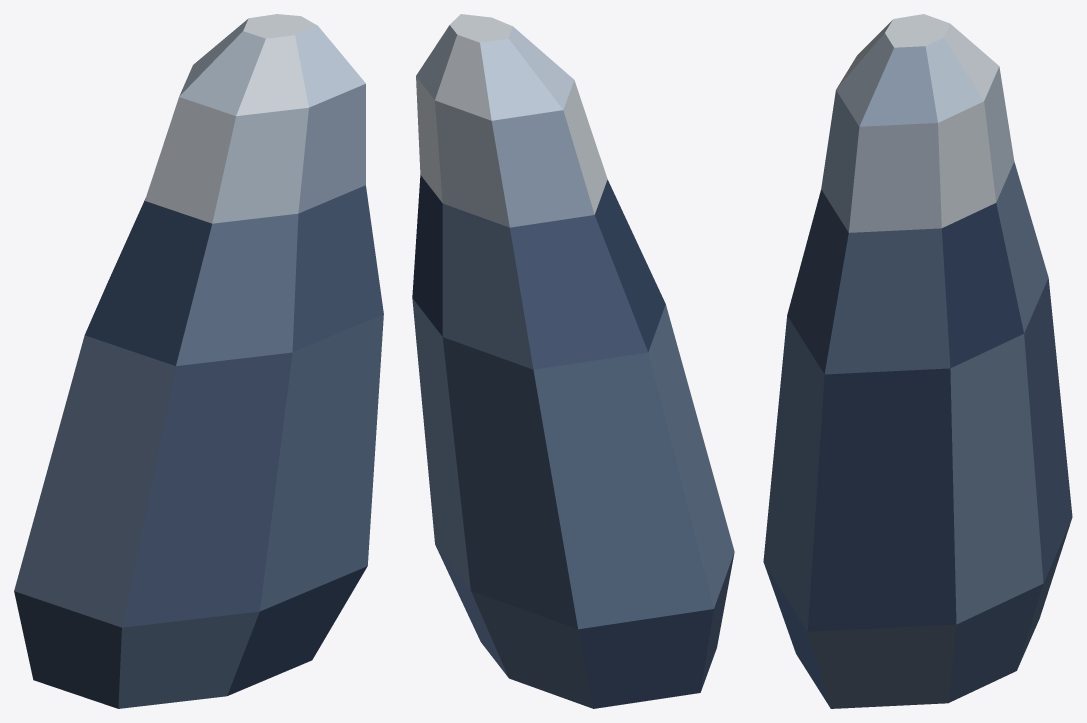
Rendered from ridge-spire.glb.
3 renders of one model, left to right at view 1: azimuth 30°, elevation 25°; view 2: azimuth 150°, elevation 25°; view 3: azimuth 270°, elevation 25°, orthographic. The views are drawn at different scales.
Visible parts, largest first — view 1: ridge-spire; view 2: ridge-spire; view 3: ridge-spire.
Boxes of the visible parts, x1,y1,x2,y2 form: ridge-spire: (14, 14, 383, 708); ridge-spire: (412, 14, 734, 708); ridge-spire: (763, 14, 1072, 708).
Size of the model in its own units: 2.99 by 5.5 by 2.27.
